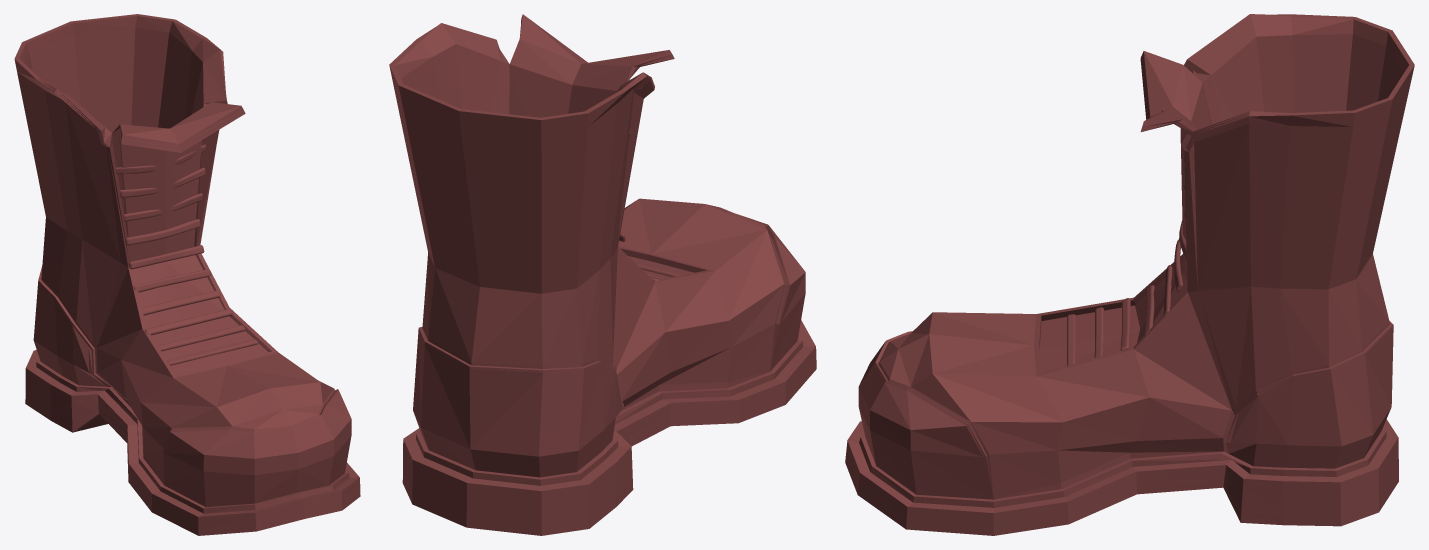
The model's file is shoe.fbx.
3 views of the same model, side by side, from view 1: azimuth 30°, elevation 25°; view 2: azimuth 150°, elevation 25°; view 3: azimuth 270°, elevation 25° (orthographic). The views are drawn at different scales.
Parts seen in each view (by area): view 1: SimpleBoot:polySurface1; view 2: SimpleBoot:polySurface1; view 3: SimpleBoot:polySurface1.
Part boxes in pixels (x1,y1,x2,y2): SimpleBoot:polySurface1: (14, 14, 360, 535); SimpleBoot:polySurface1: (389, 14, 816, 535); SimpleBoot:polySurface1: (845, 14, 1414, 535).
Bounding box in the file's own units: 172 × 308 × 378.
